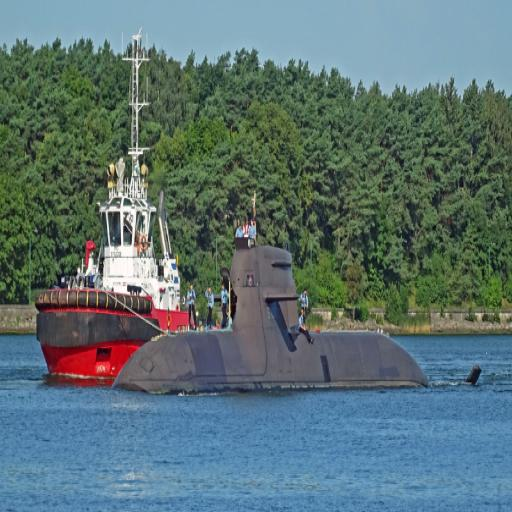submarine: (112, 252, 482, 395)
